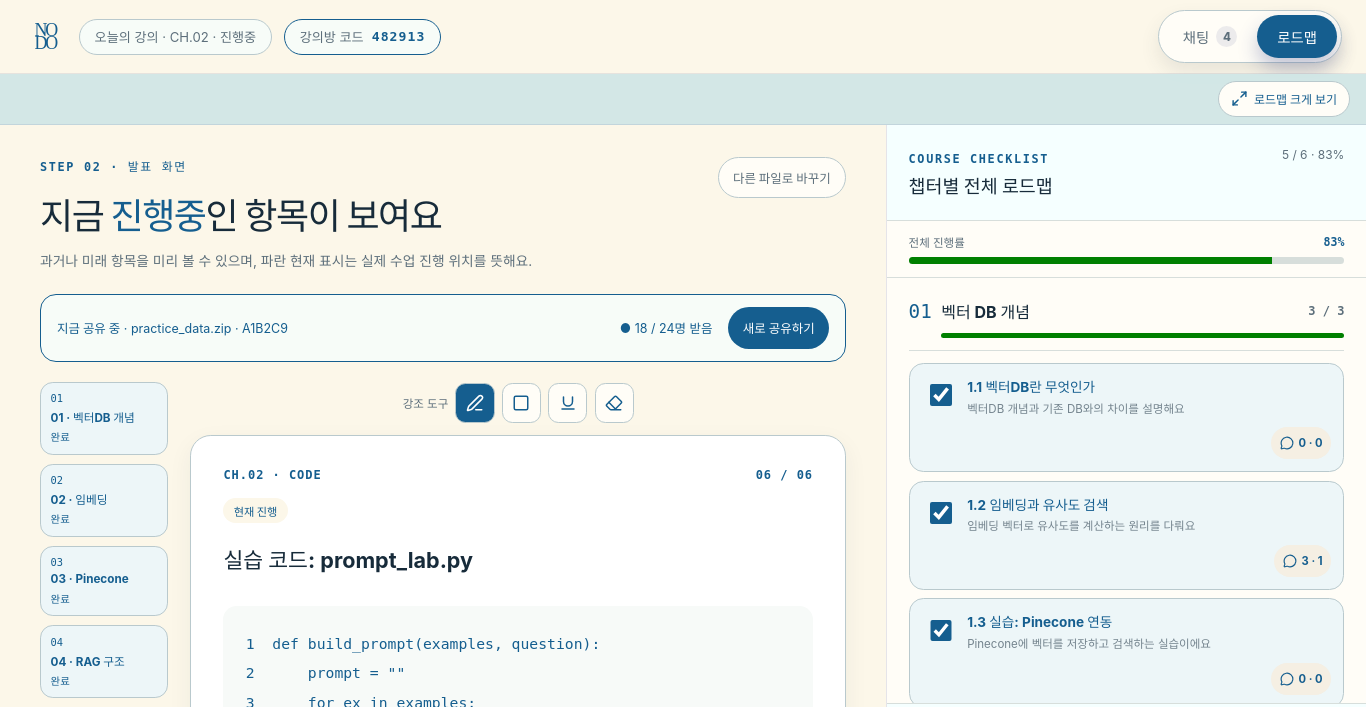
Test: NoDo 00-7 demo course flow › 항목 선택은 자료만 바꾸고 실제 현재 진행 항목은 유지한다
This screenshot has width=1366, height=707.
Expected: the element showing "1.1 벡터DB란 무엇인가 벡터DB 개념과 기존 DB와의 차이를 설명해요 0 · 0" is shown, [909, 362, 1344, 472]
Click the button "1.1 벡터DB란 무엇인가 벡터DB 개념과 기존 DB와의 차이를 설명해요": click(1040, 386) [967, 376, 1324, 417]
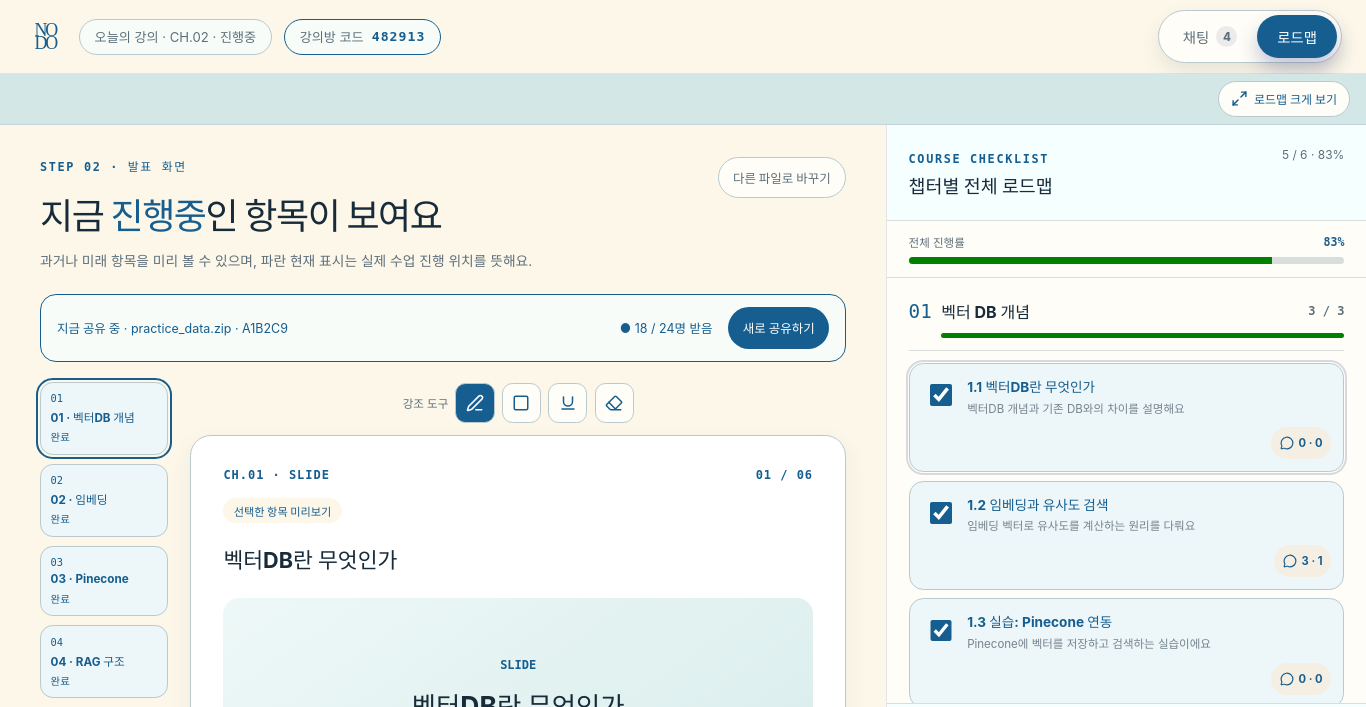
Now the heading "벡터DB란 무엇인가" is shown, box [223, 547, 398, 573]
Now the text "선택한 항목 미리보기" is shown, box [223, 498, 342, 523]
